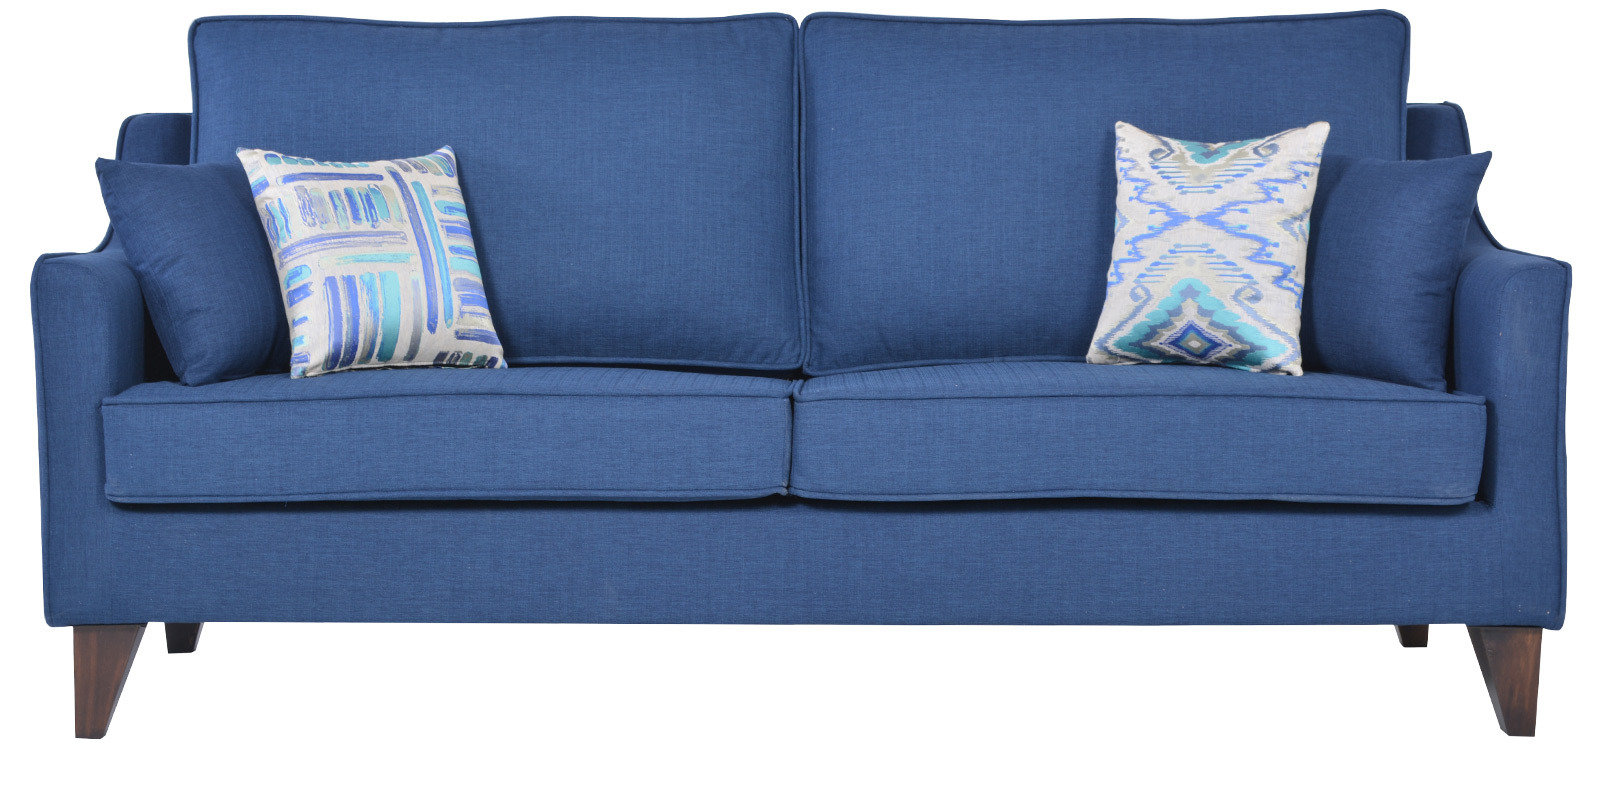Ithaca Impulse Three Seater Sofa with Throw Cushions in Teal Blue Colour by Urba: (18, 6, 1572, 795)
